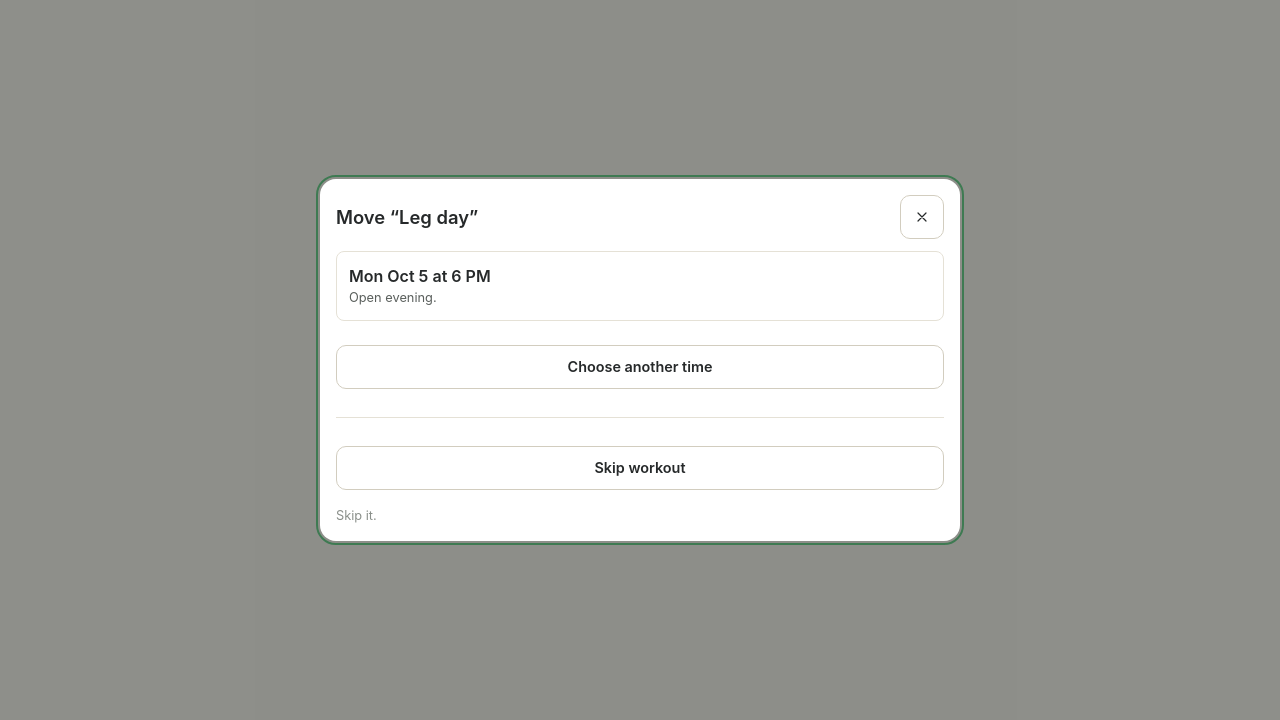
a refusal says the server's words (the session guard, 409 `{ error, why }`) › after a refusal the sheet offers no other day and no skip (the session can't be changed), and the plan is read again
This screenshot has width=1280, height=720.
Click the button "Mon Oct 5 at 6 PM Open evening.".
click(389, 276)  # box [336,251,944,320]
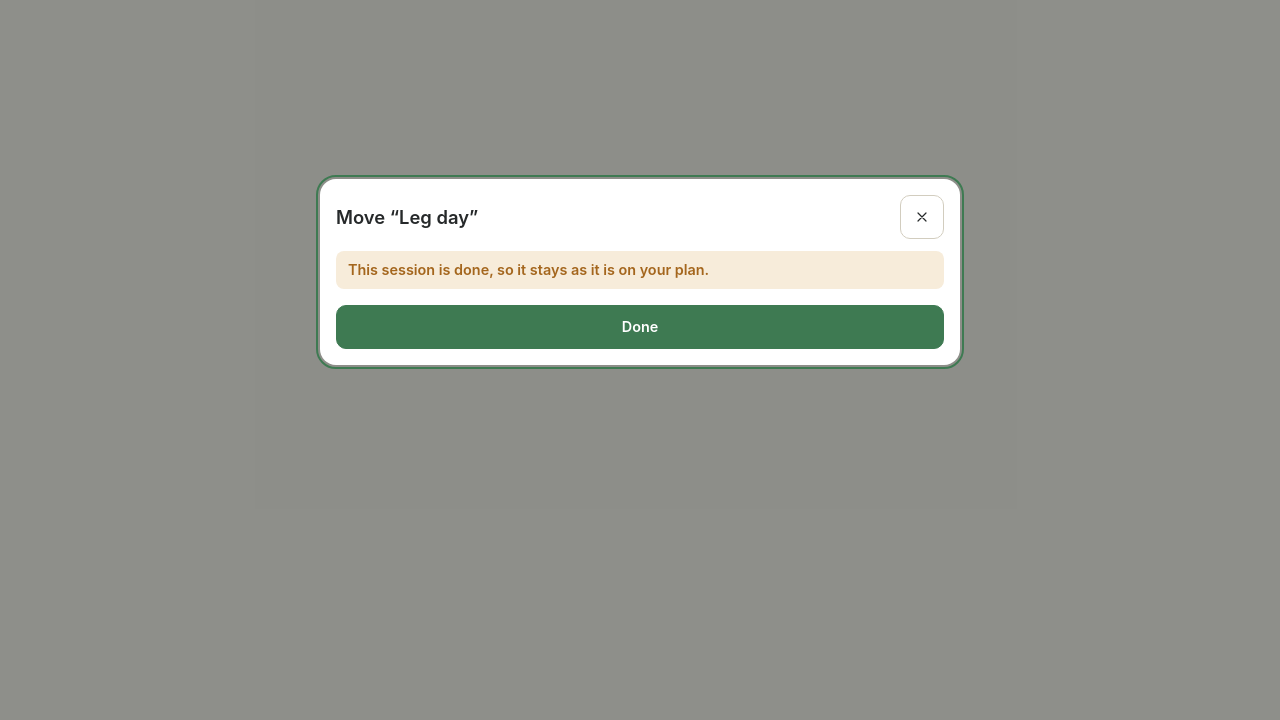
Check: no buttons with class "workout-row" are shown
